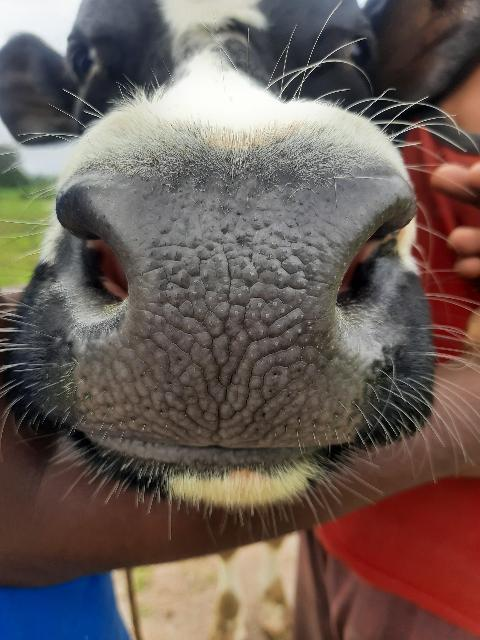Muzzle: (98, 190, 346, 446)
